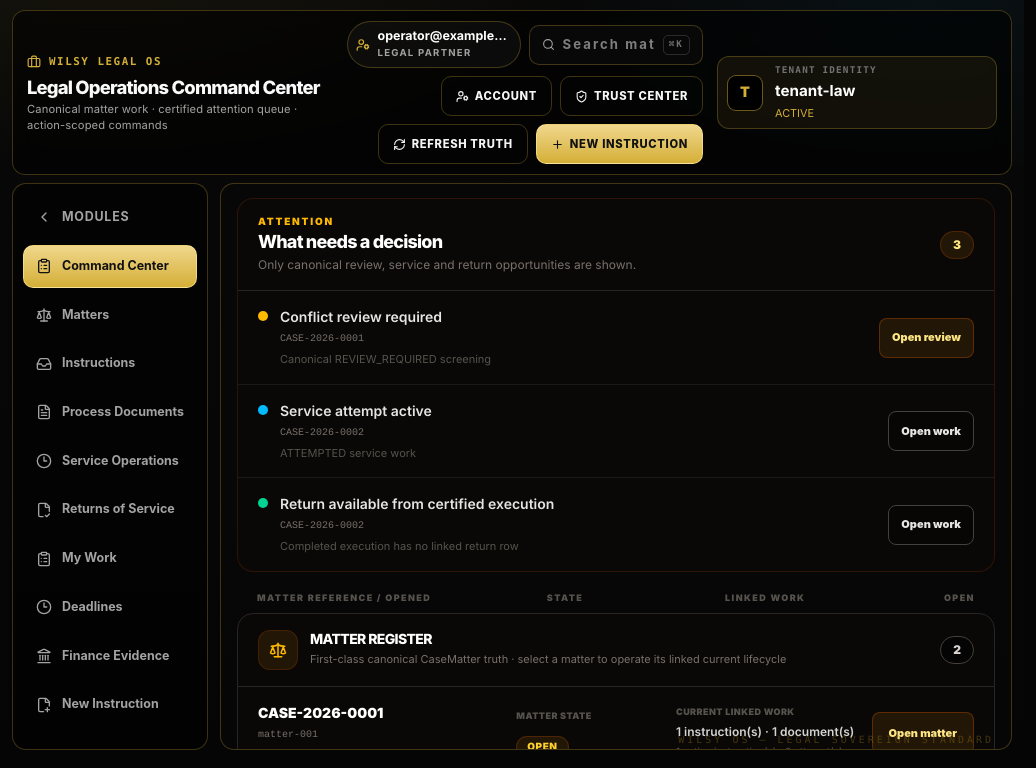
Test: D15 first-class Legal Matter Operating Room › loads and presents the canonical conflict-review queue without exposing a NO_MATCH action
The image size is (1036, 768).
Click the button "Refresh truth". click: (453, 144)
box: [378, 124, 528, 164]
(page scrolled)
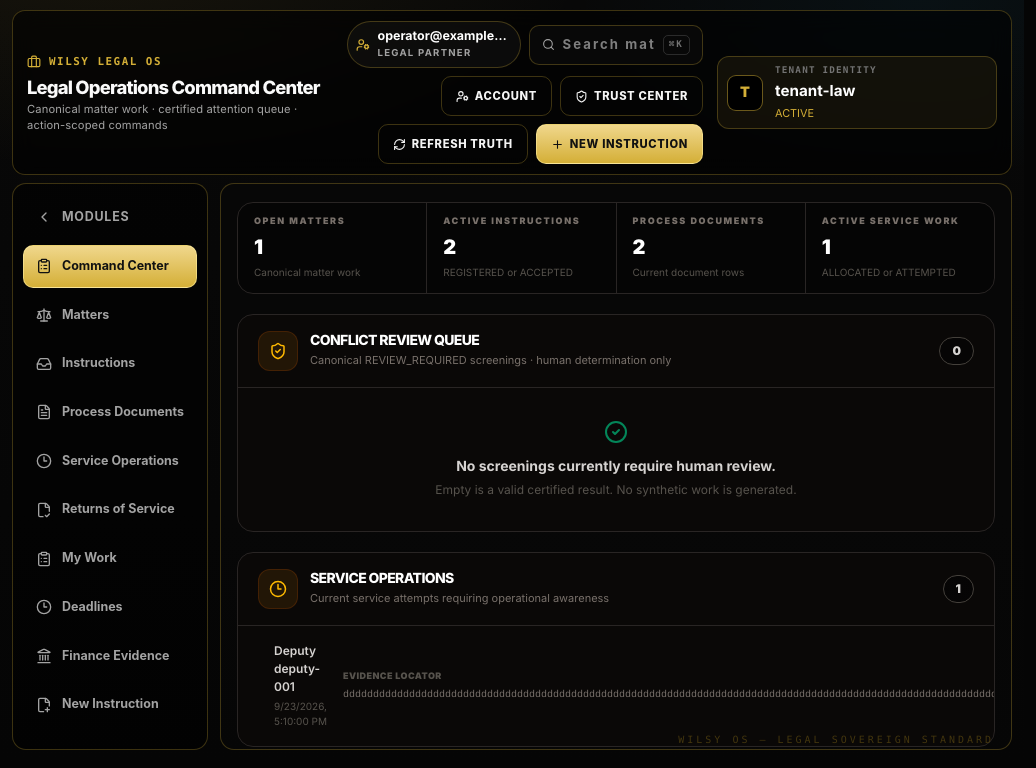
Expected: the text "No screenings currently require human review." is shown, [456, 458, 776, 476]
